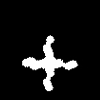single_crochet: (22, 36, 76, 90)
